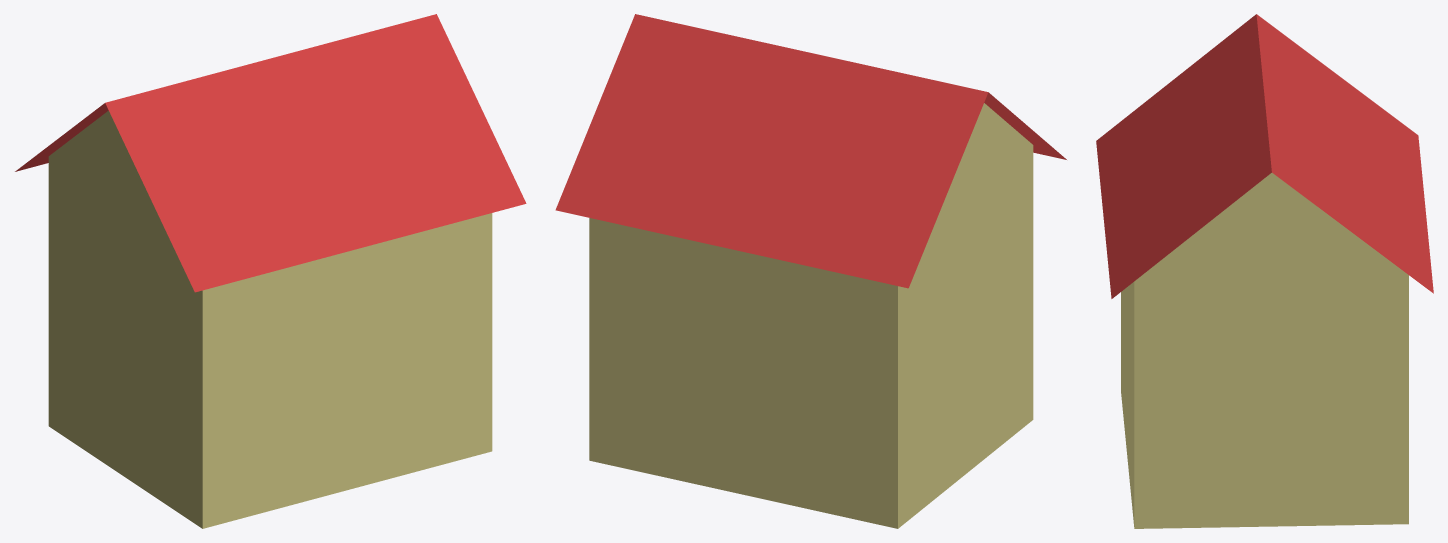
The picture shows the model from 3 angles, left to right: view 1: azimuth 30°, elevation 25°; view 2: azimuth 150°, elevation 25°; view 3: azimuth 270°, elevation 25°; orthographic projection. The views are drawn at different scales.
Bounding box in the file's own units: 12.25 × 10.65 × 12.67.
